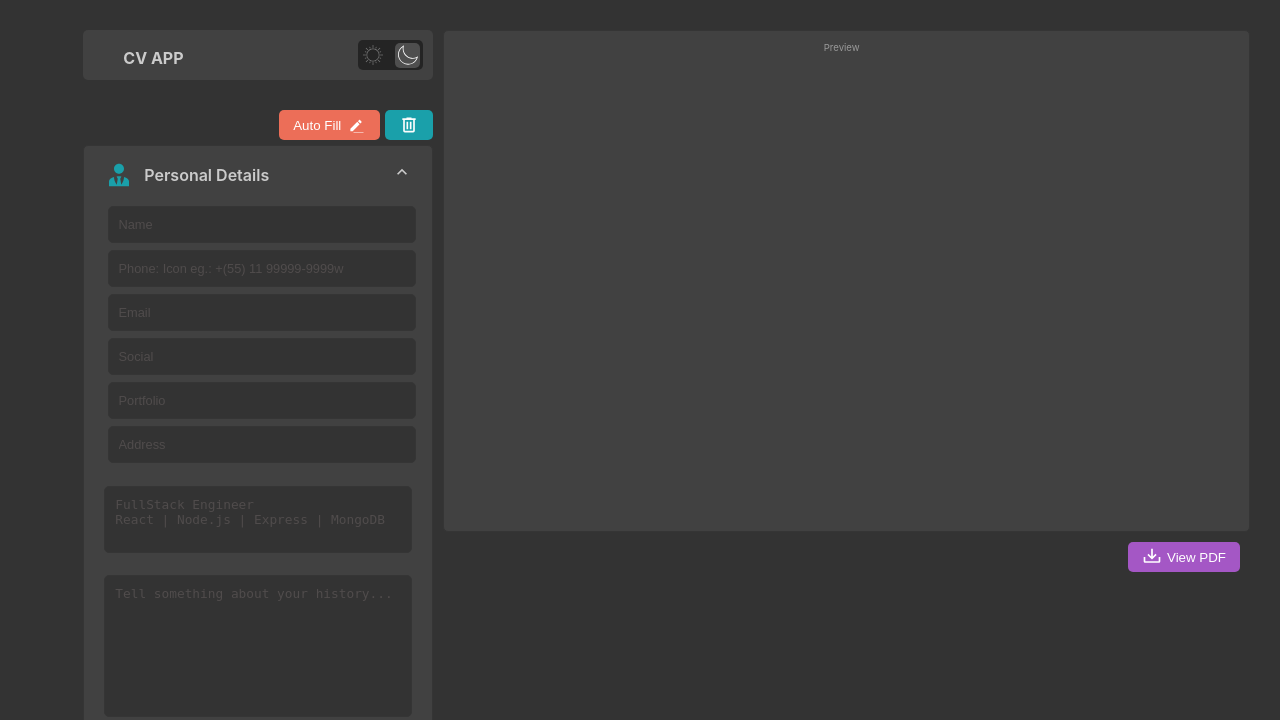
Inputs Behavior and Preview Updates › Preview should update when input fields change
This screenshot has width=1280, height=720.
Type "Mauro" into the field with placeholder "Name" at [262, 224], box [108,206,416,243]
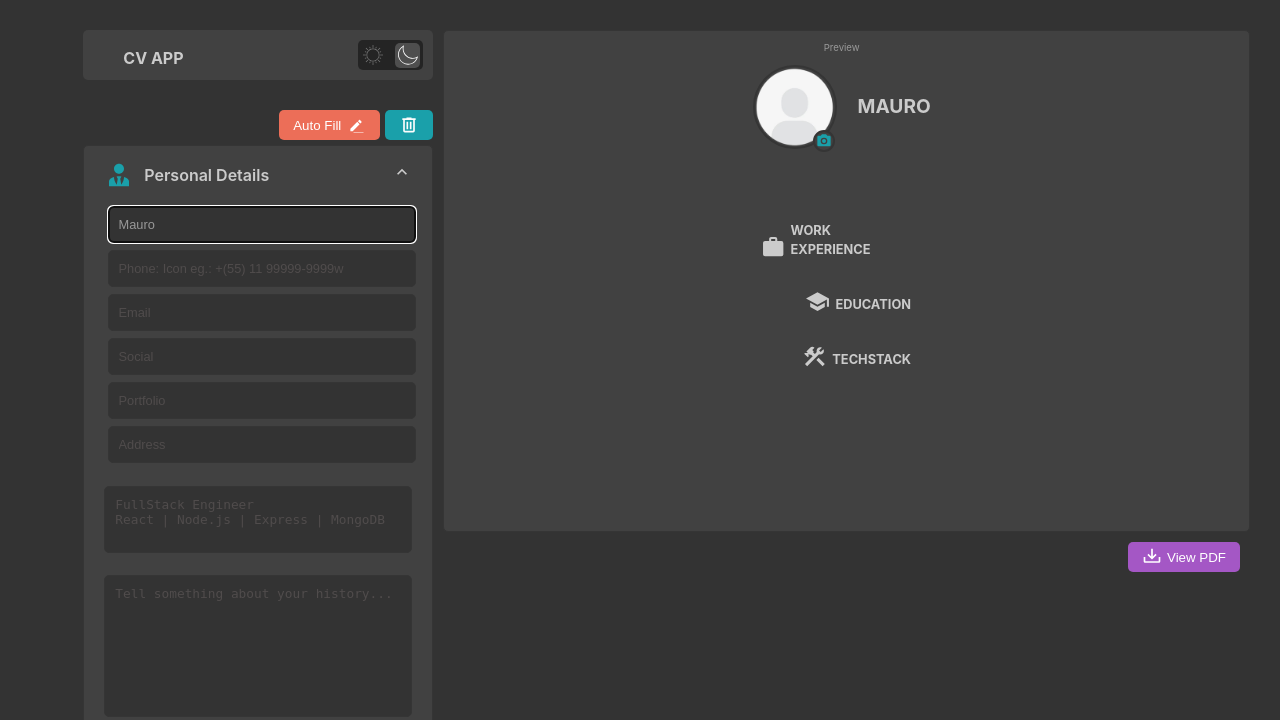
Check: the heading "Mauro" is shown, box [858,89,931,124]
